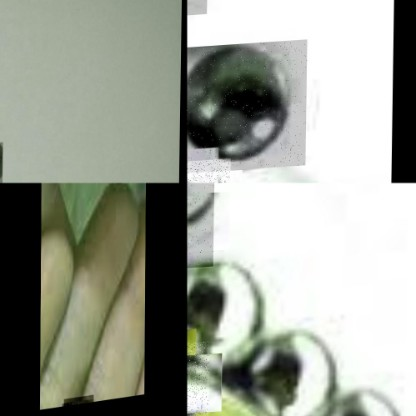ironball: (187, 42, 307, 175), (184, 258, 269, 369), (249, 328, 335, 414), (329, 381, 404, 414), (187, 182, 214, 271), (187, 342, 210, 415)
